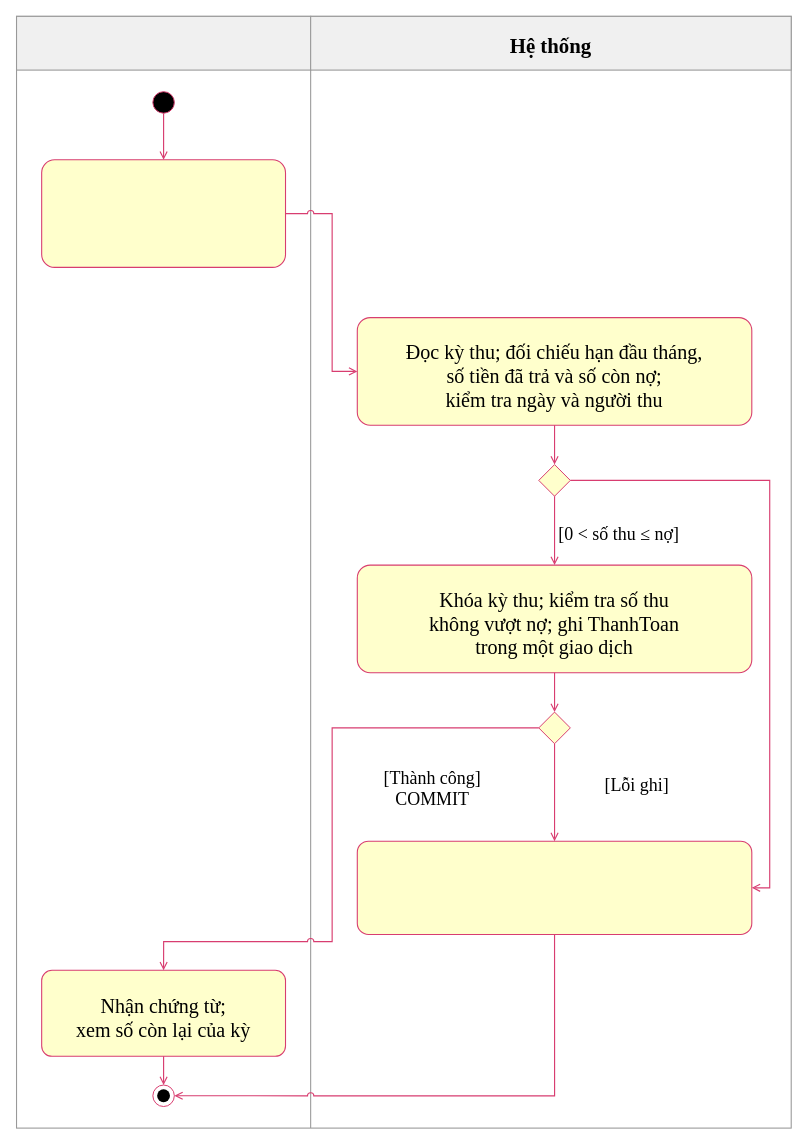
This 808x1144 diagram has some shape labels left out. Each missing label, with the centre of its shape:
[Sai thông tin]: the point at 672,465
Chọn hợp đồng, phòng và kỳ thuê từ tháng thứ 7; nhập thông tin thanh toán: the point at 163,213
Kế toán: the point at 163,42
Thông báo lý do; không lưu dở dang; hoàn tác nếu đã bắt đầu giao dịch: the point at 554,887
